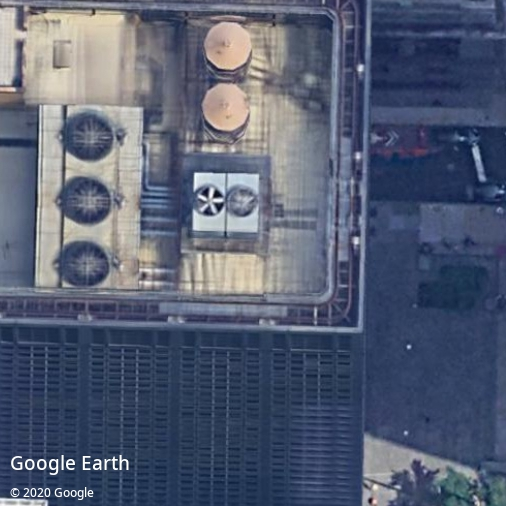Vent: (67, 114, 114, 162), (65, 178, 111, 226), (62, 241, 109, 287), (195, 185, 226, 217), (226, 187, 258, 218)
